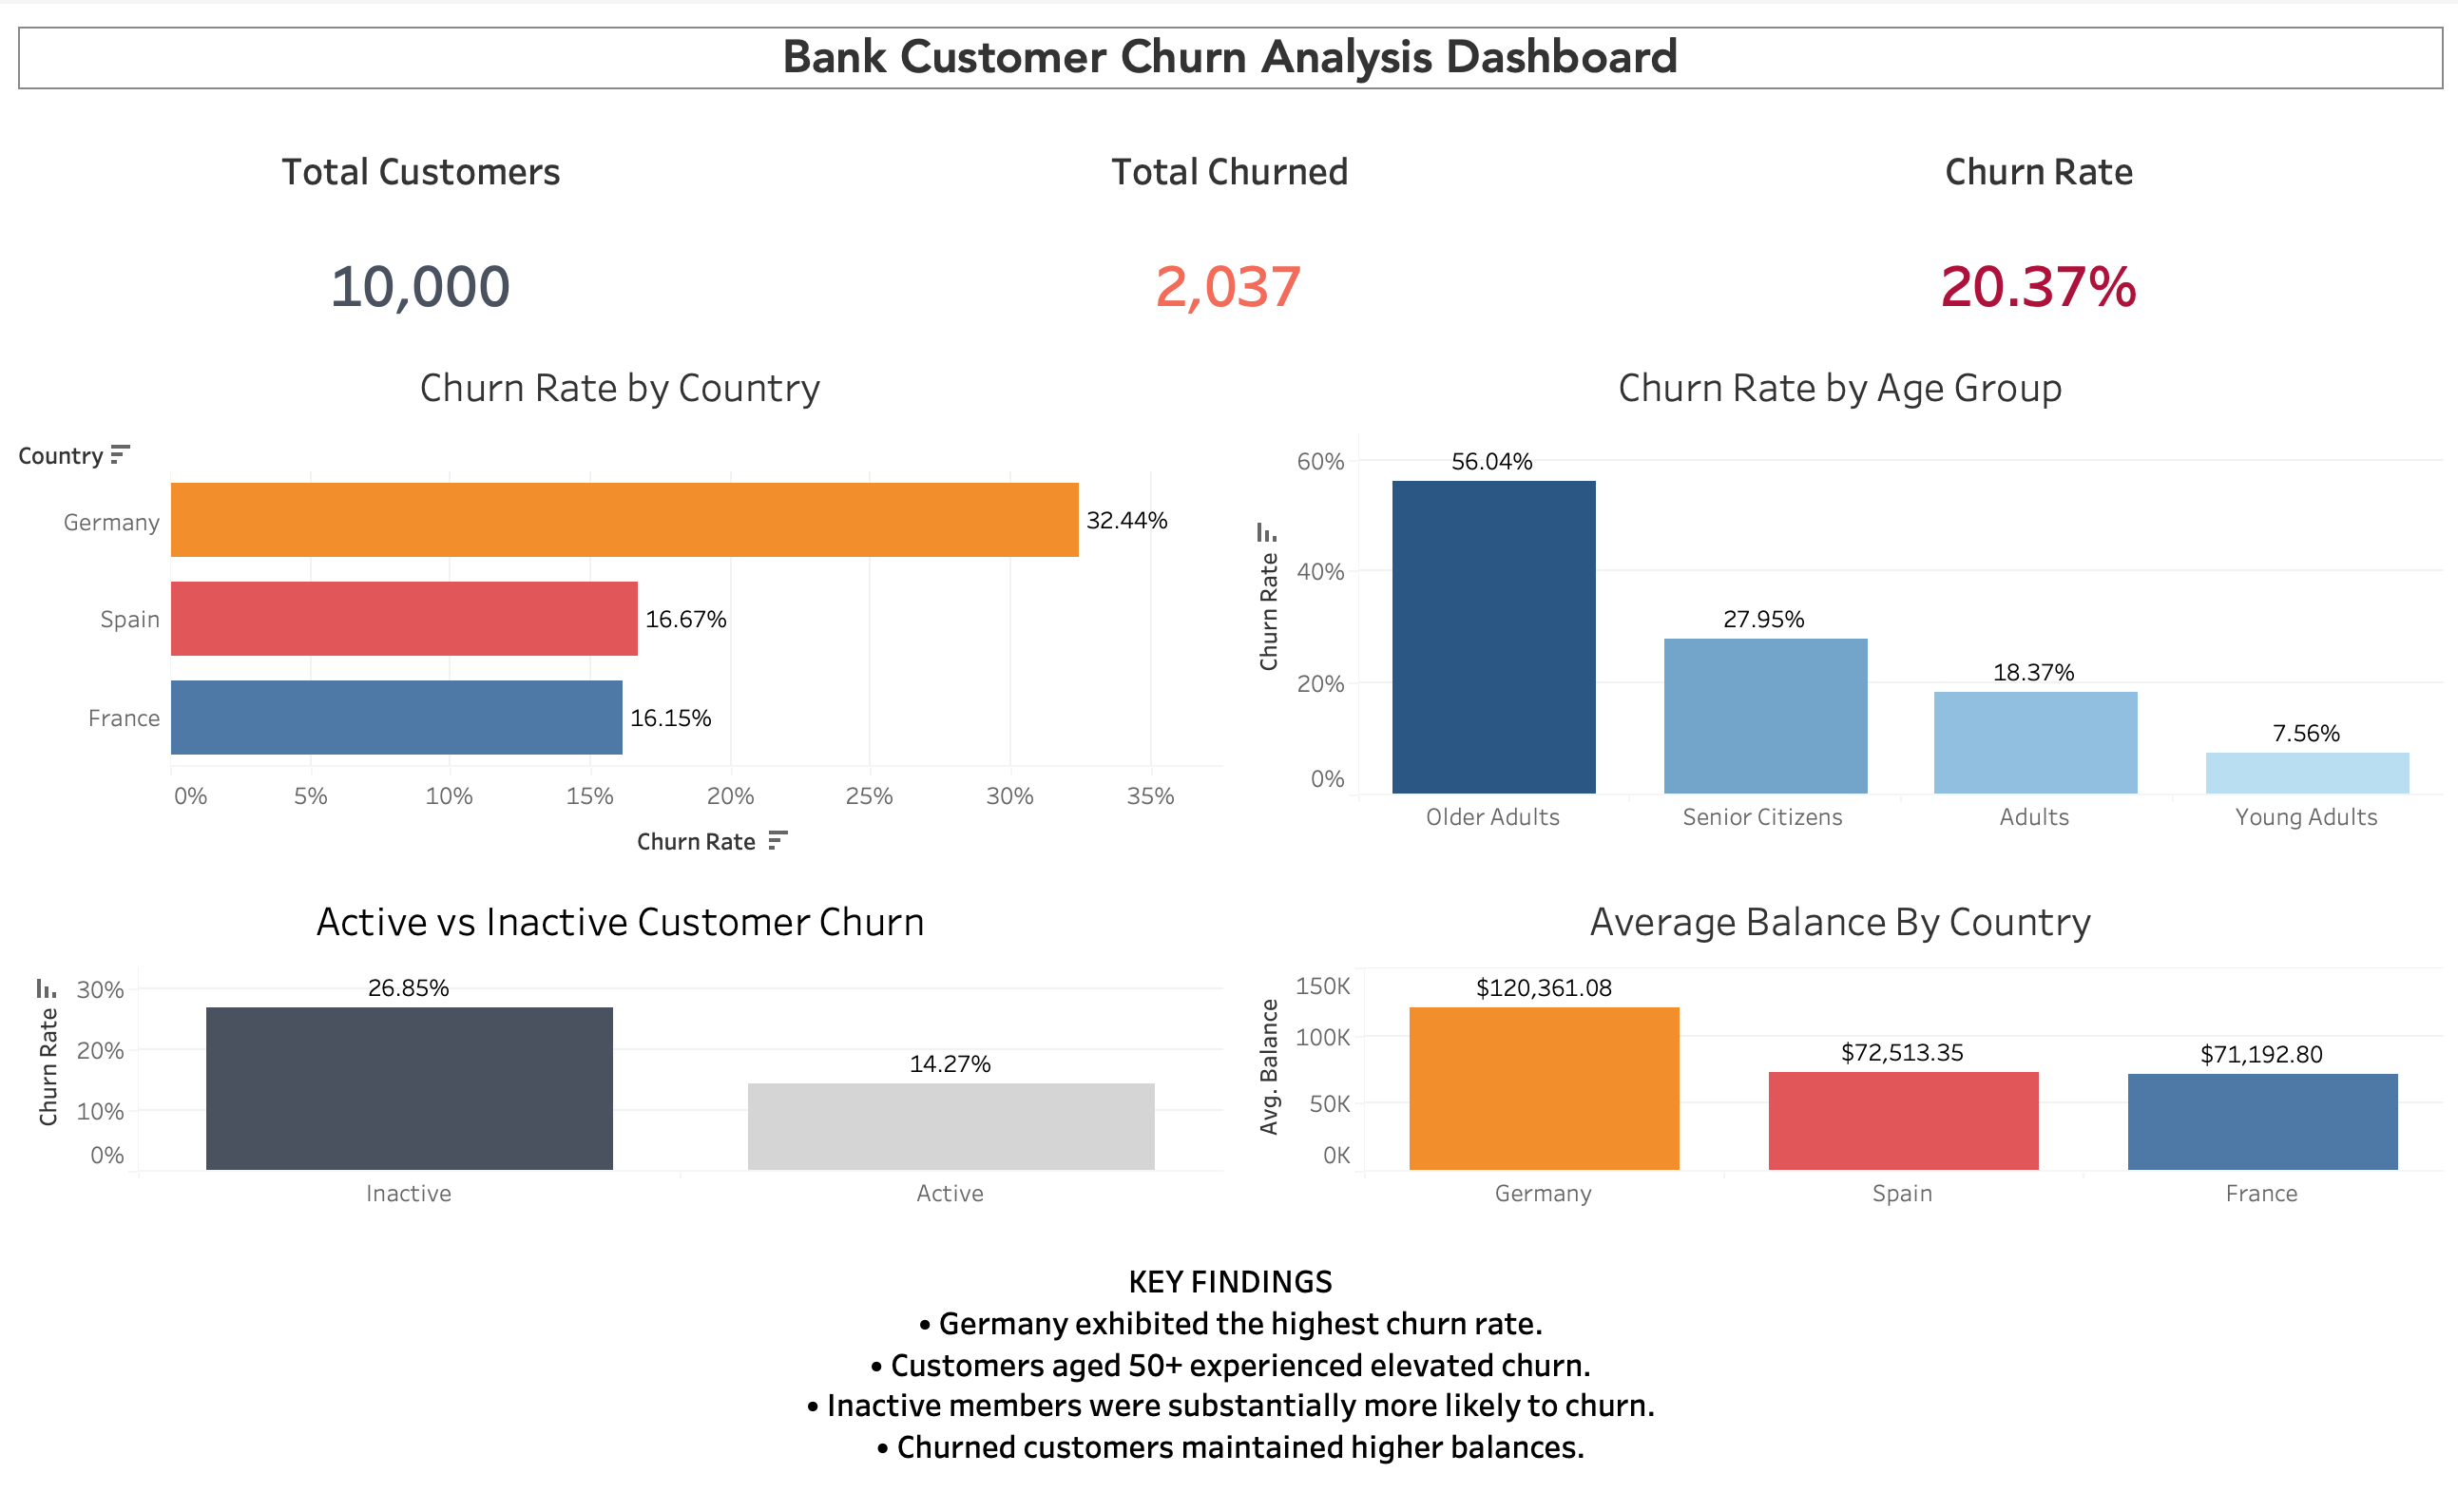

Layout of this report page (visuals, bound fields, positions):
{"tool":"tableau","page":{"name":"Bank Customer Churn Analysis Dashboard","canvas":[1300,800],"ordinal":0},"visuals":[{"type":"title","box":[8,8,1284,41]},{"type":"worksheet","title":"KPI - Total Customers","mark":"Automatic","box":[8,49,1284,130]},{"type":"worksheet","title":"Churn Rate by Country","mark":"Automatic","rows":["country"],"cols":["Calculation_0271388941574144"],"box":[8,179,642,280.5]},{"type":"worksheet","title":"Churn Rate by Age Group","mark":"Automatic","rows":["Calculation_0271388941574144"],"cols":["Calculation_0335298144694272"],"box":[650,179,642,281]},{"type":"worksheet","title":"Churn Rate Active Inactive","mark":"Automatic","rows":["Calculation_0271388941574144"],"cols":["Calculation_0335298145763329"],"box":[8,459.5,642,179.2]},{"type":"worksheet","title":"Average Balance By Country","mark":"Automatic","rows":["balance"],"cols":["country"],"box":[650,460,642,178.7]},{"type":"text","box":[8,638.7,1284,153.3]}]}

Visuals, with their boxes in screenshot pixels (x1, y1, x2, y2), scaled from the page's 1300x800 canvas onto the 2458x1512 screenshot:
title: bbox=[15, 15, 2443, 92]
"KPI - Total Customers" worksheet: bbox=[15, 92, 2443, 338]
"Churn Rate by Country" worksheet: bbox=[15, 338, 1229, 869]
"Churn Rate by Age Group" worksheet: bbox=[1229, 338, 2443, 870]
"Churn Rate Active Inactive" worksheet: bbox=[15, 869, 1229, 1207]
"Average Balance By Country" worksheet: bbox=[1229, 870, 2443, 1207]
text: bbox=[15, 1207, 2443, 1497]
